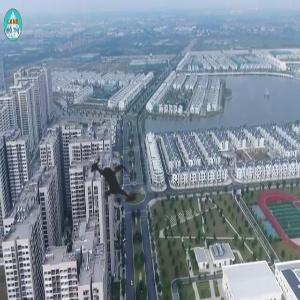drone: (65, 131, 163, 229)
